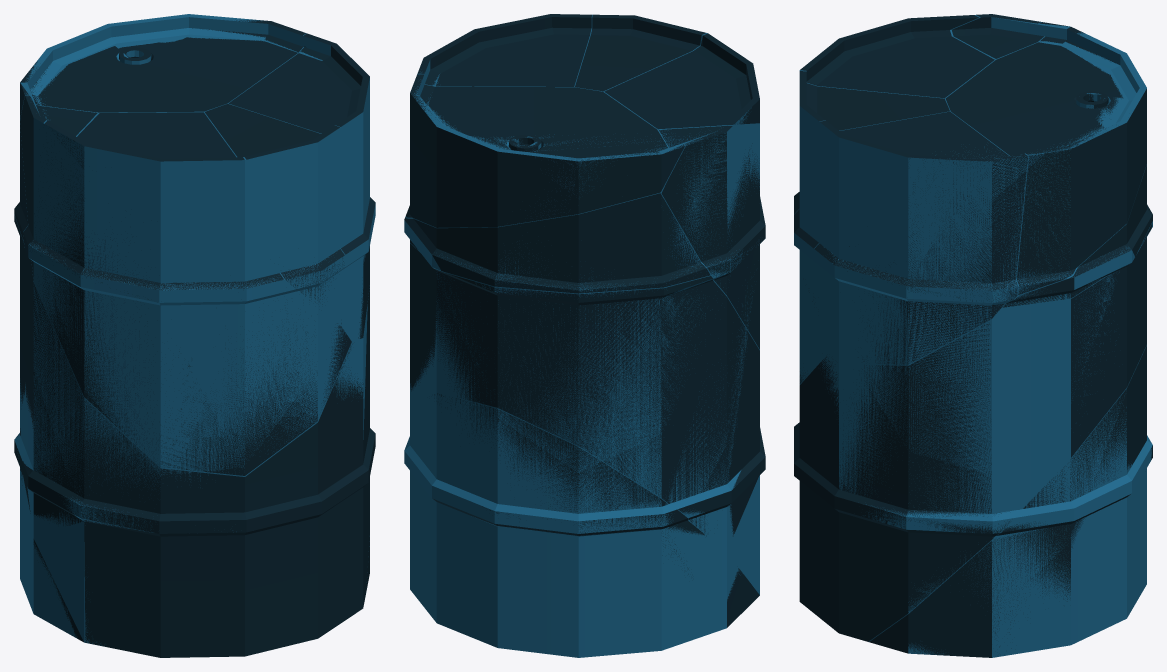
Rendered from Blue Barrel.fbx.
3 renders of one model, left to right at view 1: azimuth 30°, elevation 25°; view 2: azimuth 150°, elevation 25°; view 3: azimuth 270°, elevation 25°, orthographic.
Visible parts, largest first — view 1: Blue Barrel, Blue Barrel_cell 2, Blue Barrel_cell 7, Blue Barrel_cell 8, Blue Barrel_cell 1, Blue Barrel_cell 9, Blue Barrel_cell 6, Blue Barrel_cell 4, Blue Barrel_cell 5; view 2: Blue Barrel, Blue Barrel_cell 2, Blue Barrel_cell 8, Blue Barrel_cell 5, Blue Barrel_cell 7, Blue Barrel_cell 4, Blue Barrel_cell 1, Blue Barrel_cell 9, Blue Barrel_cell 6; view 3: Blue Barrel, Blue Barrel_cell 2, Blue Barrel_cell 8, Blue Barrel_cell 1, Blue Barrel_cell 4, Blue Barrel_cell 9, Blue Barrel_cell 6, Blue Barrel_cell 5, Blue Barrel_cell 7.
Part boxes in pixels (<box>): Blue Barrel: <box>14,14,375,646</box>; Blue Barrel_cell 2: <box>14,215,375,657</box>; Blue Barrel_cell 7: <box>20,95,351,475</box>; Blue Barrel_cell 8: <box>20,20,305,117</box>; Blue Barrel_cell 1: <box>228,33,375,338</box>; Blue Barrel_cell 9: <box>44,112,244,168</box>; Blue Barrel_cell 6: <box>205,104,344,304</box>; Blue Barrel_cell 4: <box>14,428,369,642</box>; Blue Barrel_cell 5: <box>14,125,27,241</box>; Blue Barrel: <box>404,14,764,657</box>; Blue Barrel_cell 2: <box>410,243,765,536</box>; Blue Barrel_cell 8: <box>406,74,684,227</box>; Blue Barrel_cell 5: <box>404,193,710,293</box>; Blue Barrel_cell 7: <box>659,125,765,349</box>; Blue Barrel_cell 4: <box>432,393,759,627</box>; Blue Barrel_cell 1: <box>417,14,592,145</box>; Blue Barrel_cell 9: <box>604,33,759,129</box>; Blue Barrel_cell 6: <box>575,14,705,91</box>; Blue Barrel: <box>794,15,1152,657</box>; Blue Barrel_cell 2: <box>794,224,1152,641</box>; Blue Barrel_cell 8: <box>945,22,1146,294</box>; Blue Barrel_cell 1: <box>814,111,1028,364</box>; Blue Barrel_cell 4: <box>869,346,1152,657</box>; Blue Barrel_cell 9: <box>800,15,994,98</box>; Blue Barrel_cell 6: <box>794,71,949,301</box>; Blue Barrel_cell 5: <box>1002,100,1152,307</box>; Blue Barrel_cell 7: <box>794,14,1043,383</box>.
Size of the model in its own units: 90.65 by 137 by 89.99.
